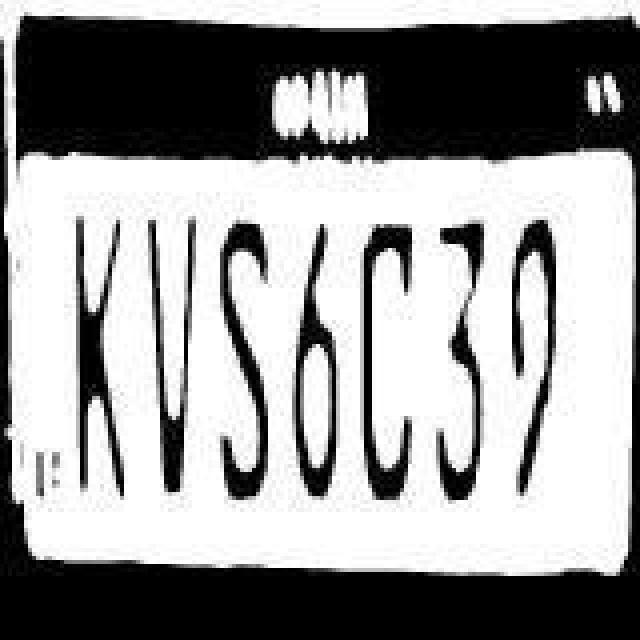3: (432, 216, 496, 520)
6: (292, 228, 348, 524)
9: (500, 210, 564, 526)
C: (350, 218, 426, 518)
K: (68, 208, 140, 504)
S: (212, 218, 284, 518)
V: (144, 224, 208, 512)
